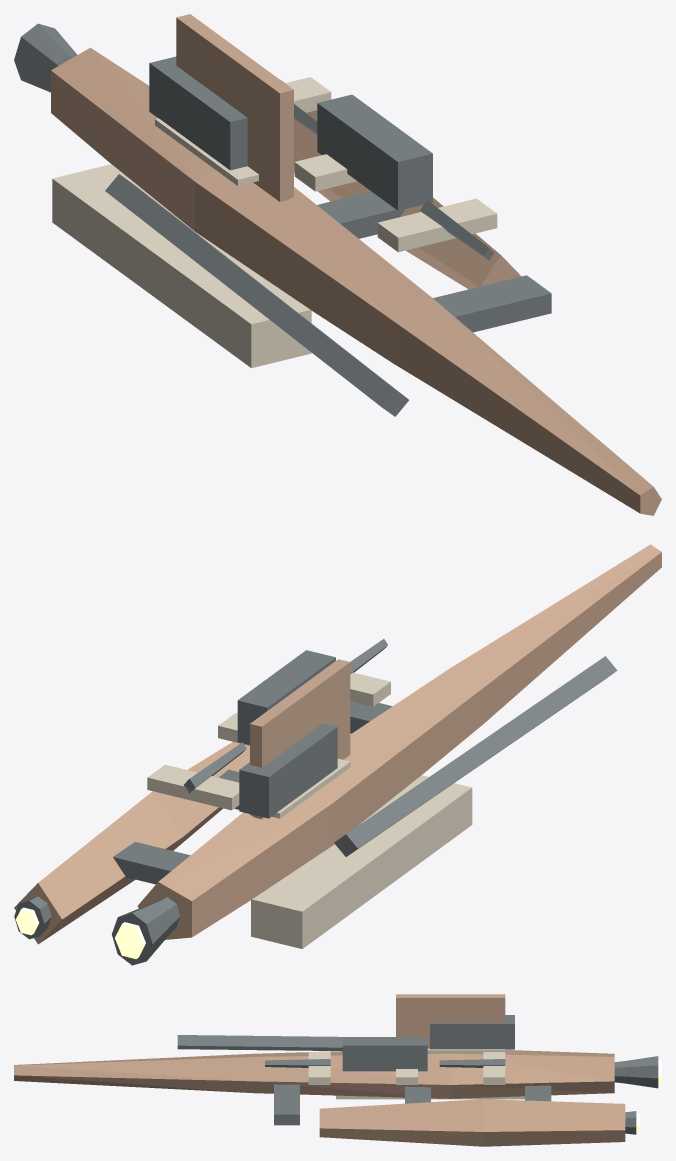
3 renders of one model, top to bottom at view 1: azimuth 30°, elevation 25°; view 2: azimuth 150°, elevation 25°; view 3: azimuth 270°, elevation 25°, orthographic. The views are drawn at different scales.
Size of the model in its own units: 4.98 by 3.56 by 18.3.
